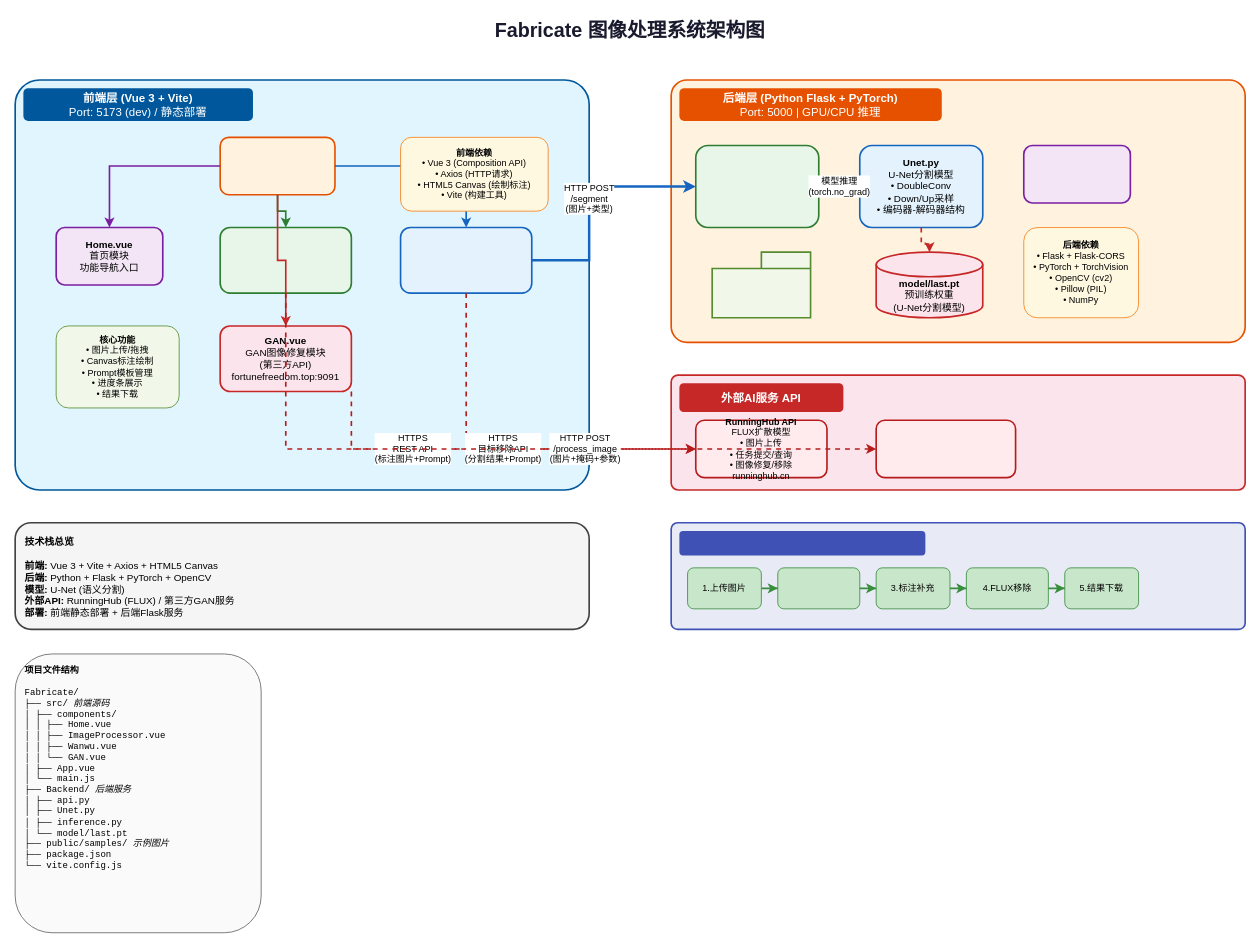
The diagram is 1260 pixels wide and 947 high, and some of its shapes have lost their labels. Each missing label, with the box of its shape:
2.U-Net分割: (777, 567, 860, 609)
api.py Flask REST API • /segment (POST) • /health (GET) CORS跨域支持: (695, 144, 819, 228)
App.vue 路由控制器 (页面切换管理): (219, 136, 335, 195)
GAN修复API 第三方GAN服务 • 人脸/通用/风景修复 fortunefreedom.top:9091: (875, 419, 1016, 478)
ImageProcessor.vue 标记移除模块 FLUX扩散模型 (RunningHub API): (219, 226, 352, 294)
inference.py 推理脚本 (独立推理入口): (1023, 144, 1131, 203)
output/ • mask.png • mask_color.png • overlay.png: (711, 251, 811, 318)
Wanwu.vue 分割移除模块 U-Net模型 + 目标移除 (本地API + RunningHub): (399, 226, 532, 294)
典型处理流程 (以分割移除为例): (679, 531, 925, 555)
